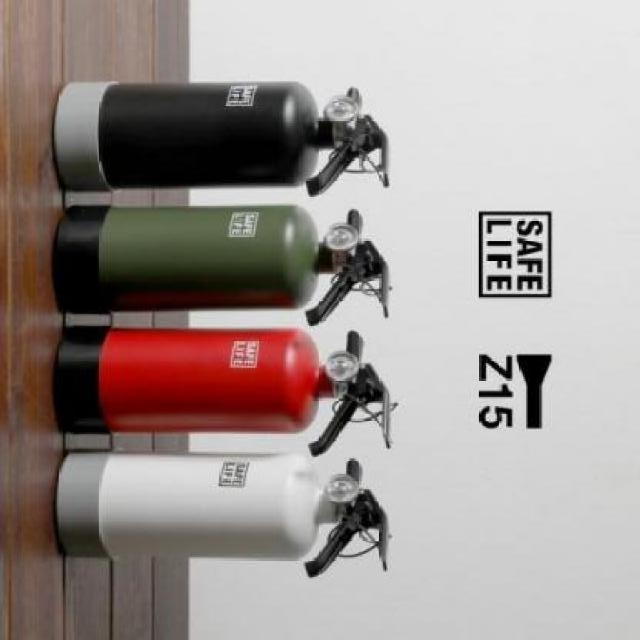fire extinguisher: (55, 447, 391, 579), (55, 326, 393, 457), (52, 204, 392, 328), (52, 79, 391, 198)
